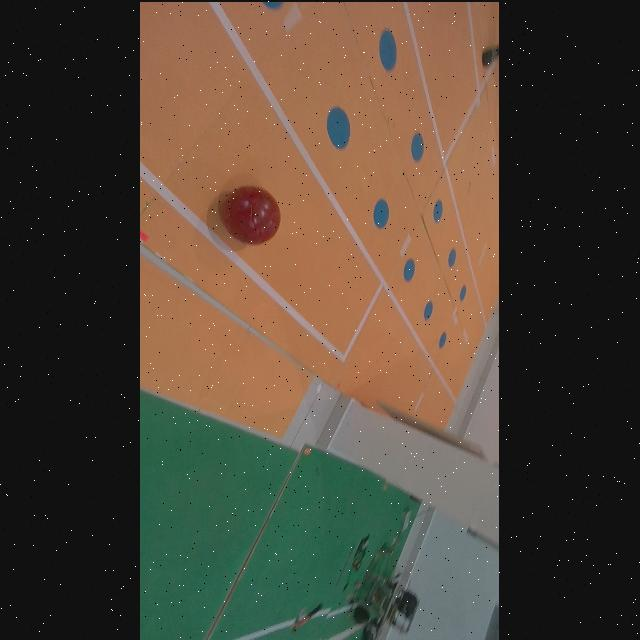R: (223, 184, 281, 243)
